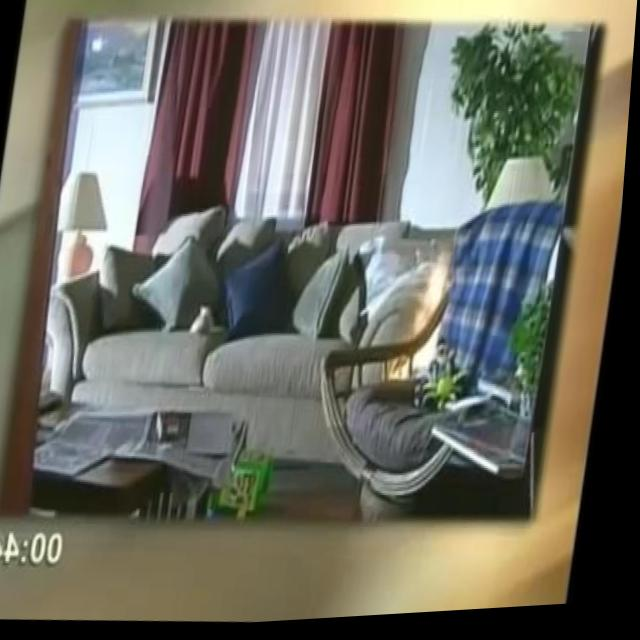fire: (397, 258, 459, 386)
